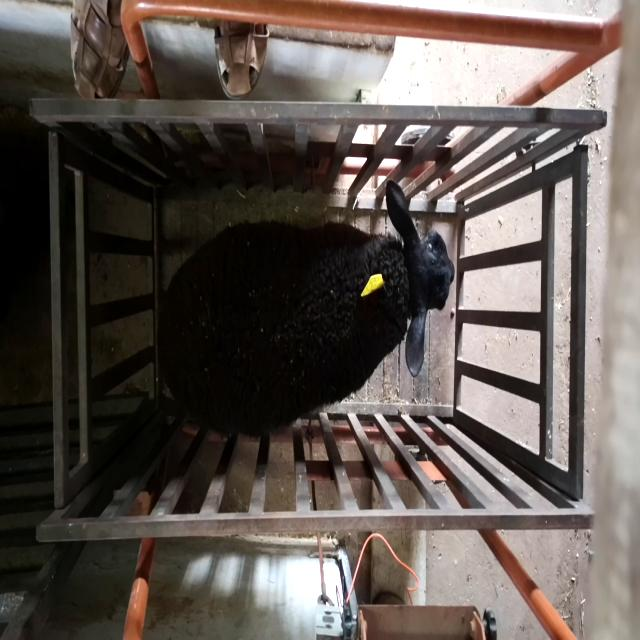sheep: (157, 180, 455, 439)
